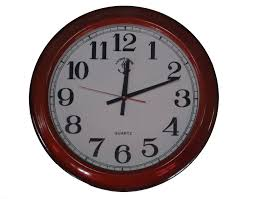alarm_clock: (28, 2, 219, 192), (28, 7, 219, 192), (38, 7, 219, 192)
